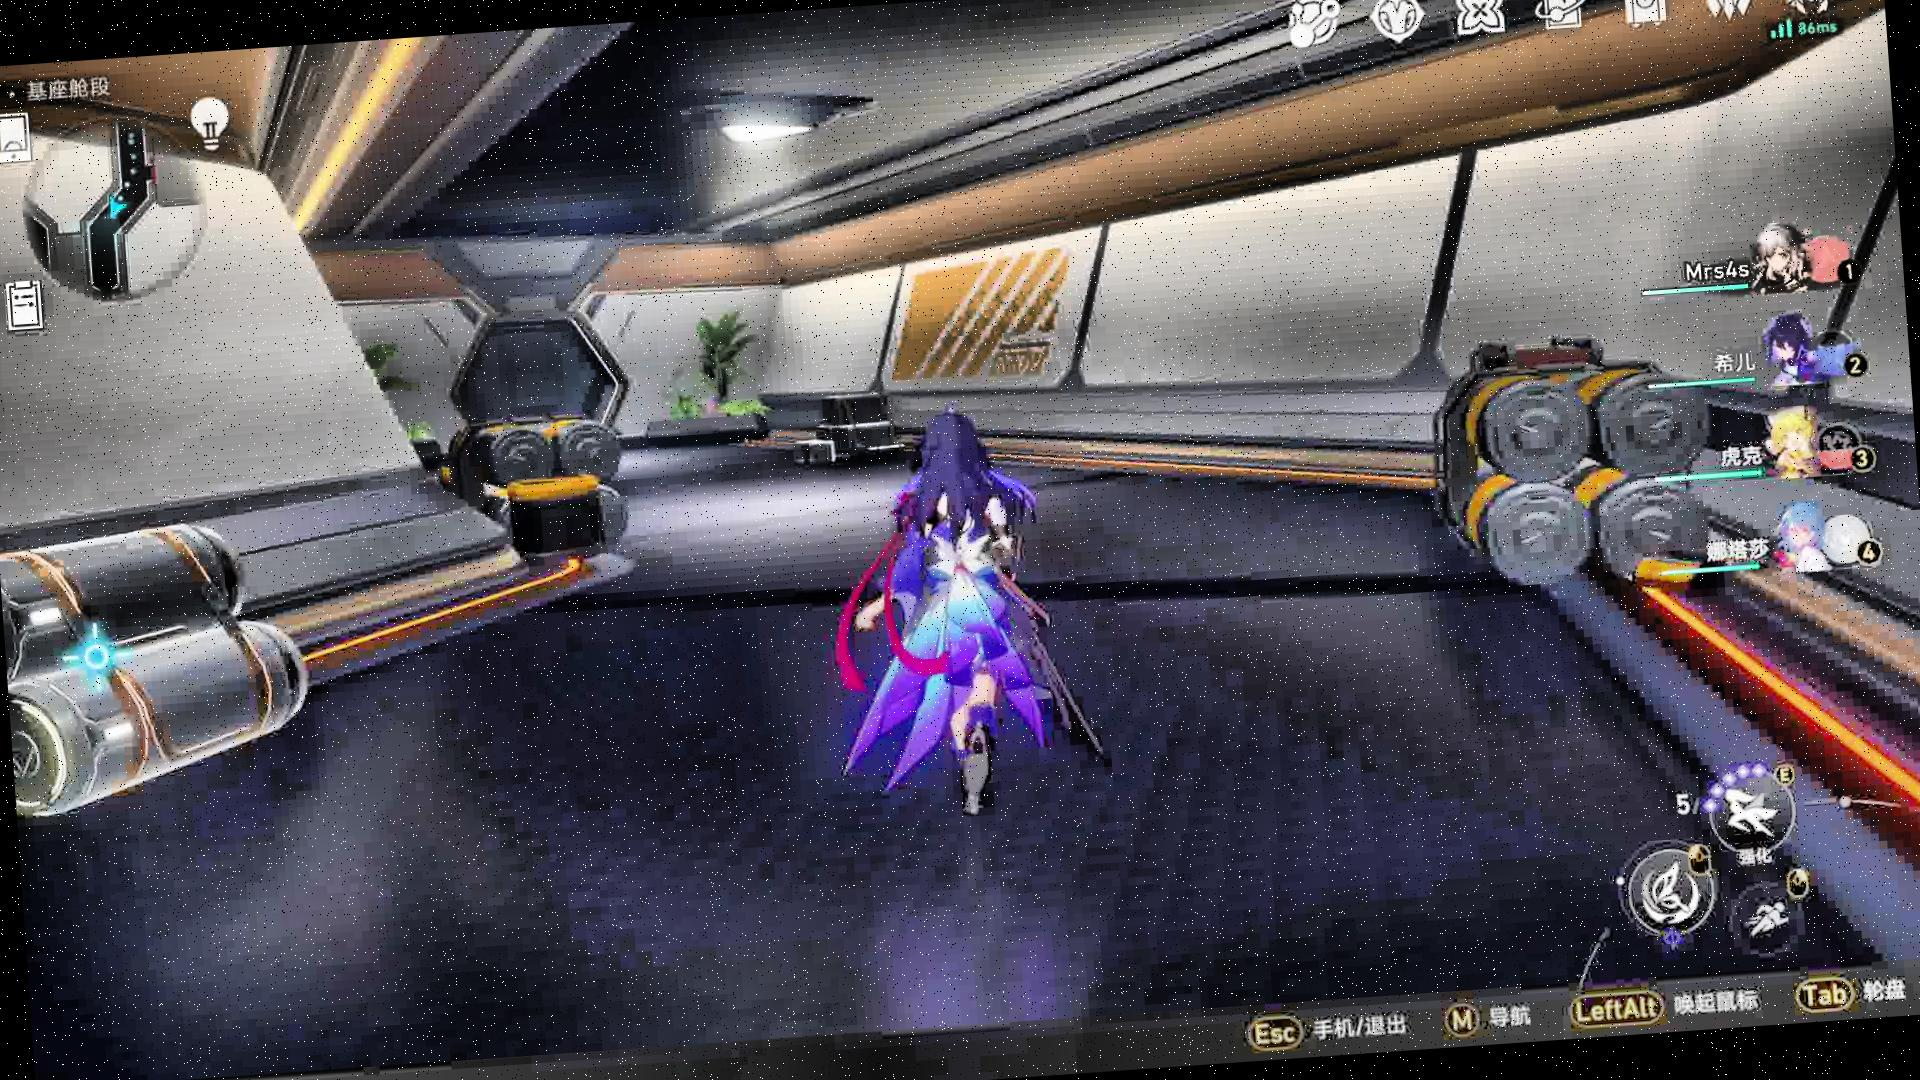Box: (0, 504, 328, 829), (794, 382, 907, 463)
Self: (815, 401, 1125, 832)
